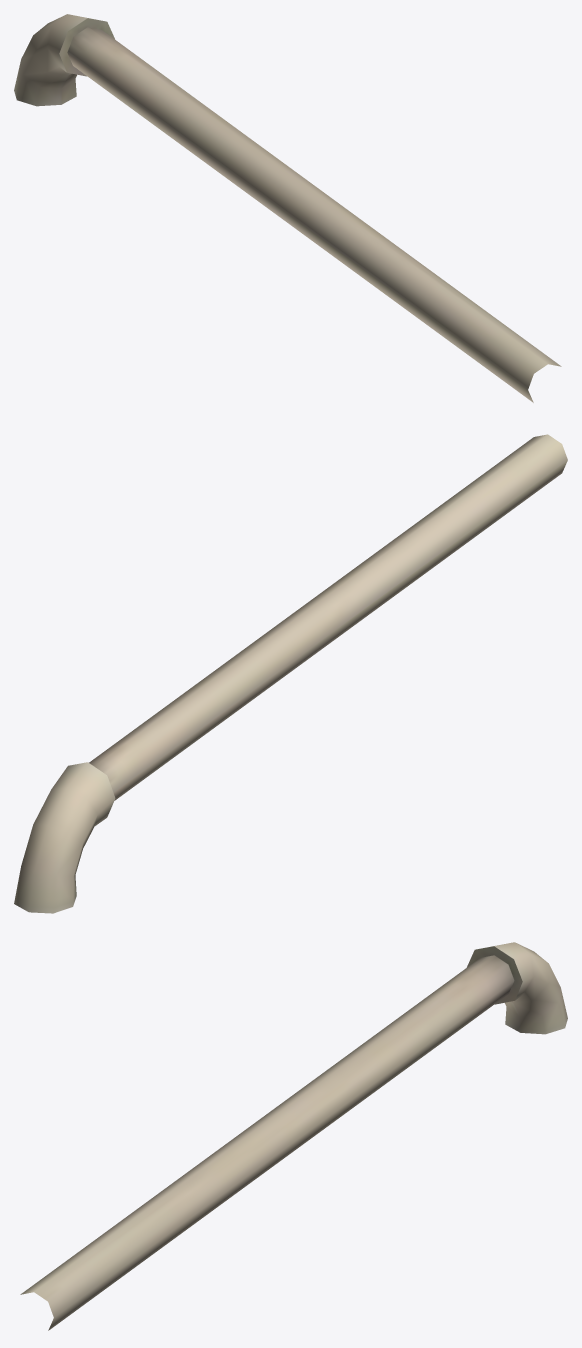
3 views of the same model, one above another, from view 1: azimuth 30°, elevation 25°; view 2: azimuth 150°, elevation 25°; view 3: azimuth 330°, elevation 25° (orthographic).
Parts seen in each view (by area): view 1: body0_model0_lod0_mesh0; view 2: body0_model0_lod0_mesh0; view 3: body0_model0_lod0_mesh0.
Boxes of the visible parts, <box> form: body0_model0_lod0_mesh0: <box>14,14,561,402</box>; body0_model0_lod0_mesh0: <box>14,434,567,913</box>; body0_model0_lod0_mesh0: <box>20,942,567,1330</box>.
Bounding box in the file's own units: 4.13 × 7.51 × 65.91.
1 material, 1 textured.
